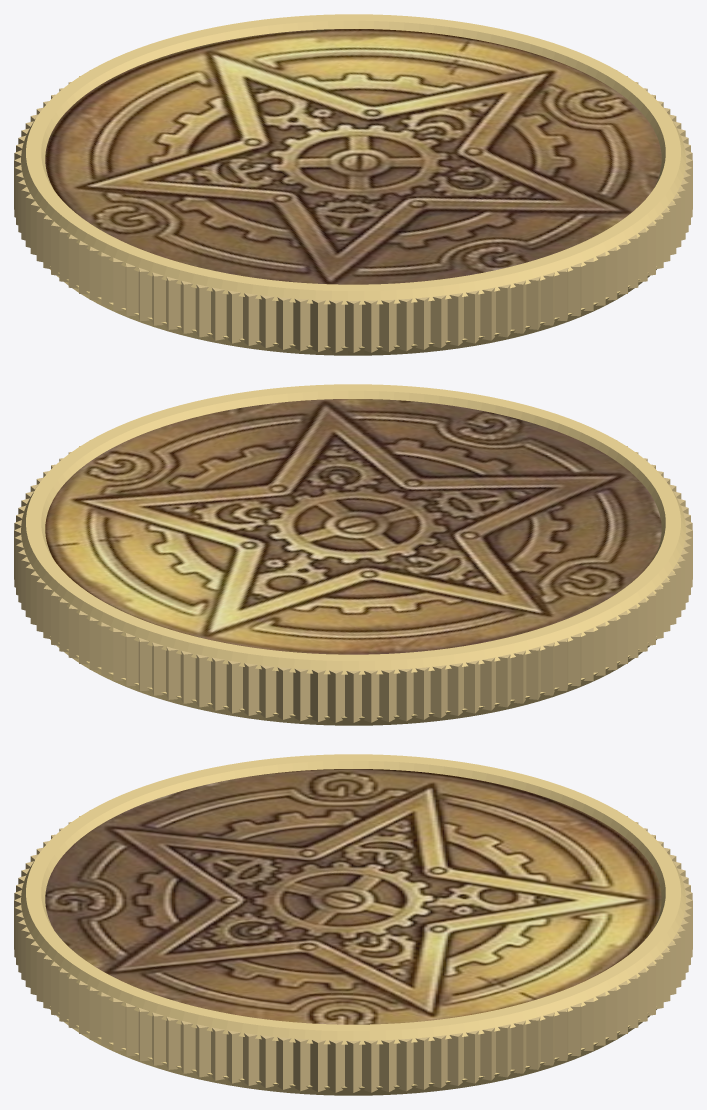
Rendered from coin.glb.
3 views of the same model, one above another, from view 1: azimuth 30°, elevation 25°; view 2: azimuth 150°, elevation 25°; view 3: azimuth 270°, elevation 25° (orthographic).
Parts seen in each view (by area): view 1: obverse_3, coin_edge_0, coin_lip_1, coin_lip_2; view 2: obverse_3, coin_edge_0, coin_lip_1, coin_lip_2; view 3: obverse_3, coin_edge_0, coin_lip_1, coin_lip_2.
Part boxes in pixels (box(x1,y1,x2,y2)): obverse_3: box(45, 29, 661, 284); coin_edge_0: box(14, 70, 692, 352); coin_lip_1: box(19, 14, 687, 304); coin_lip_2: box(50, 266, 656, 355); obverse_3: box(45, 399, 661, 654); coin_edge_0: box(14, 440, 692, 722); coin_lip_1: box(19, 384, 687, 674); coin_lip_2: box(50, 636, 656, 725); obverse_3: box(45, 769, 661, 1024); coin_edge_0: box(14, 810, 692, 1092); coin_lip_1: box(19, 754, 687, 1044); coin_lip_2: box(50, 1006, 656, 1095).
Bounding box in the file's own units: 0.25 × 0.0262 × 0.25.
4 materials, 2 textured.
